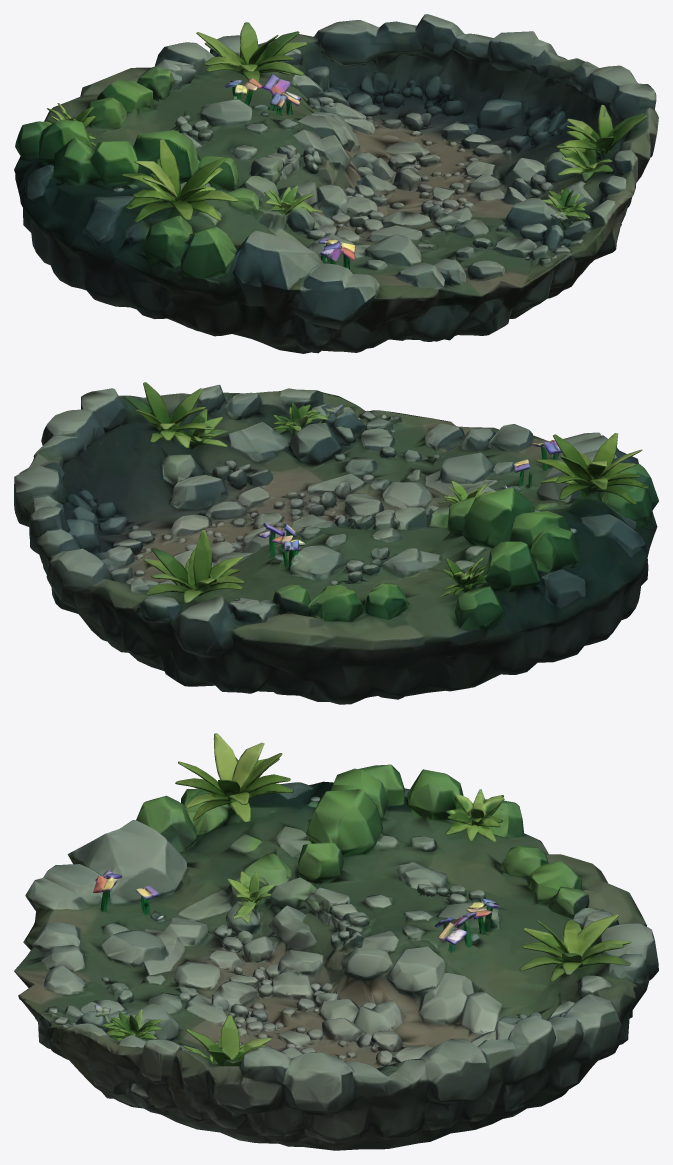
Rendered from moon_shore.glb.
3 renders of one model, top to bottom at view 1: azimuth 30°, elevation 25°; view 2: azimuth 150°, elevation 25°; view 3: azimuth 270°, elevation 25°, orthographic. The views are drawn at different scales.
Visible parts, largest first — view 1: tripo_node_9aa5b20e-9fa3-4b6b-b67b-d3a76e5a3fd9; view 2: tripo_node_9aa5b20e-9fa3-4b6b-b67b-d3a76e5a3fd9; view 3: tripo_node_9aa5b20e-9fa3-4b6b-b67b-d3a76e5a3fd9.
Boxes of the visible parts, left/top/right/bottom form: tripo_node_9aa5b20e-9fa3-4b6b-b67b-d3a76e5a3fd9: left=14, top=14, right=658, bottom=353; tripo_node_9aa5b20e-9fa3-4b6b-b67b-d3a76e5a3fd9: left=14, top=382, right=658, bottom=704; tripo_node_9aa5b20e-9fa3-4b6b-b67b-d3a76e5a3fd9: left=14, top=733, right=658, bottom=1150.
Size of the model in its own units: 0.9807 by 0.2902 by 0.8951.
Materials: 1 (1 with a texture image).
